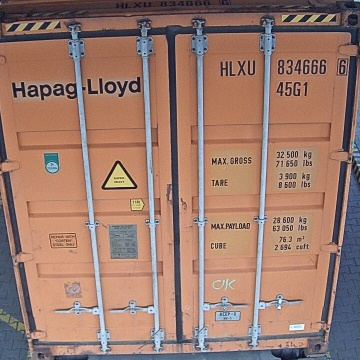serial_id: (220, 58, 348, 75)
